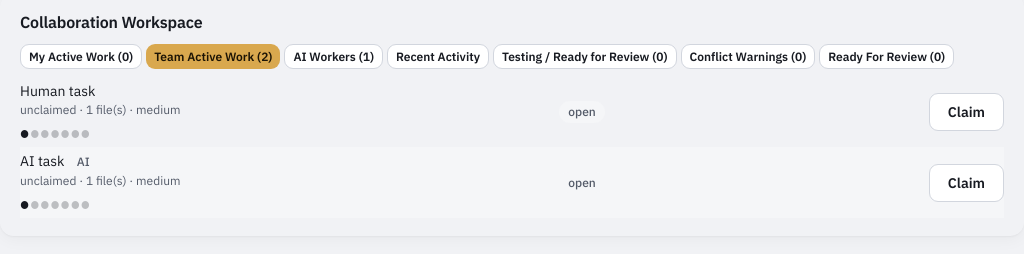
Test case: CollaborationWorkspace › AI Workers tab shows only owner_type=ai items
The image size is (1024, 254).
Expected: the text "Human task" is shown, top-left (20, 82), bottom-right (95, 100)
Click the button "AI Workers (1)" at (334, 56), box top-left (284, 44), bottom-right (383, 69)
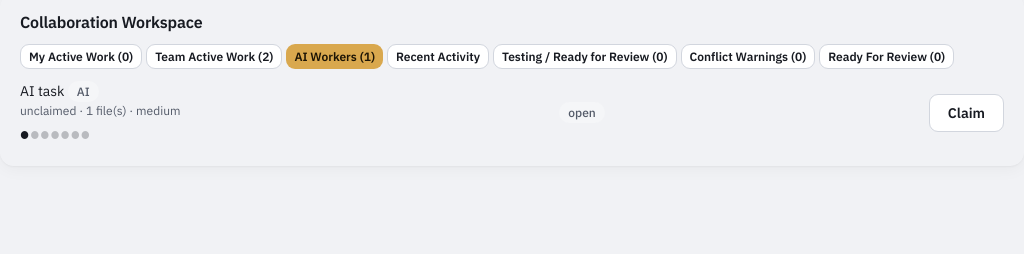
Expected: the text "AI task" is shown, top-left (20, 82), bottom-right (64, 100)
Now the text "Human task" is gone
